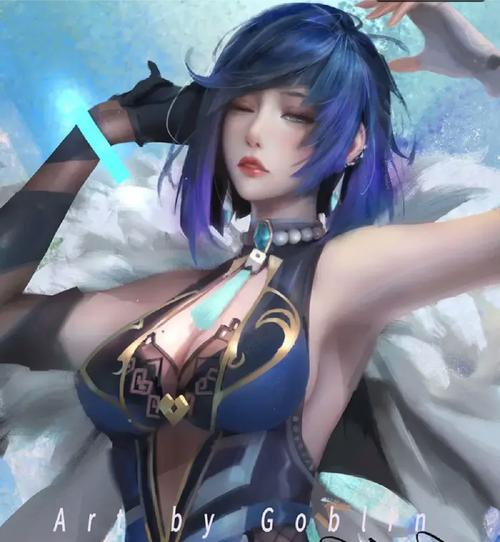夜兰: (3, 5, 498, 542)
